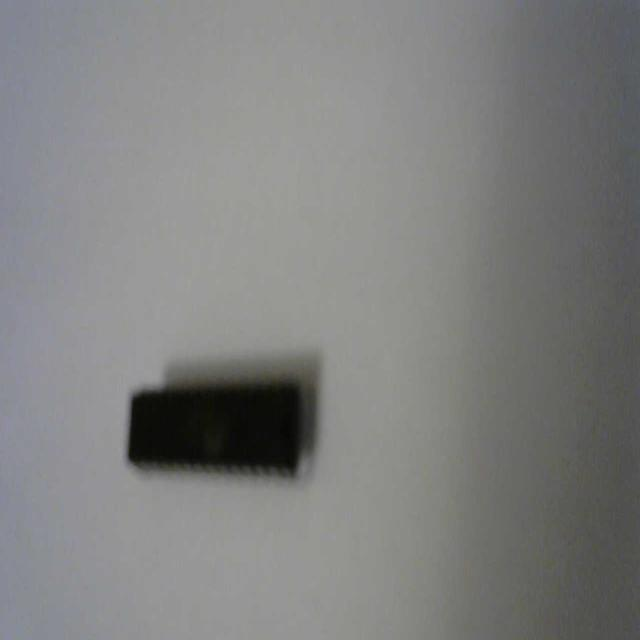atmega: (124, 355, 320, 485)
